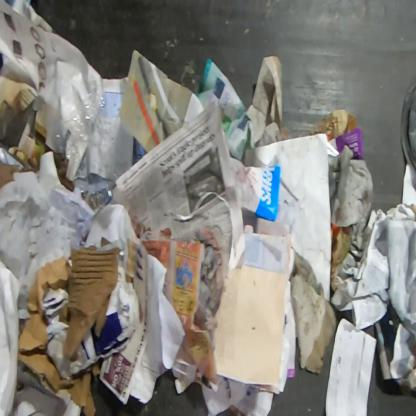cardboard: (18, 255, 103, 415), (43, 266, 141, 380), (59, 245, 122, 361)
rigid_plastic: (400, 74, 415, 176)
soft_plastic: (50, 76, 121, 210)
